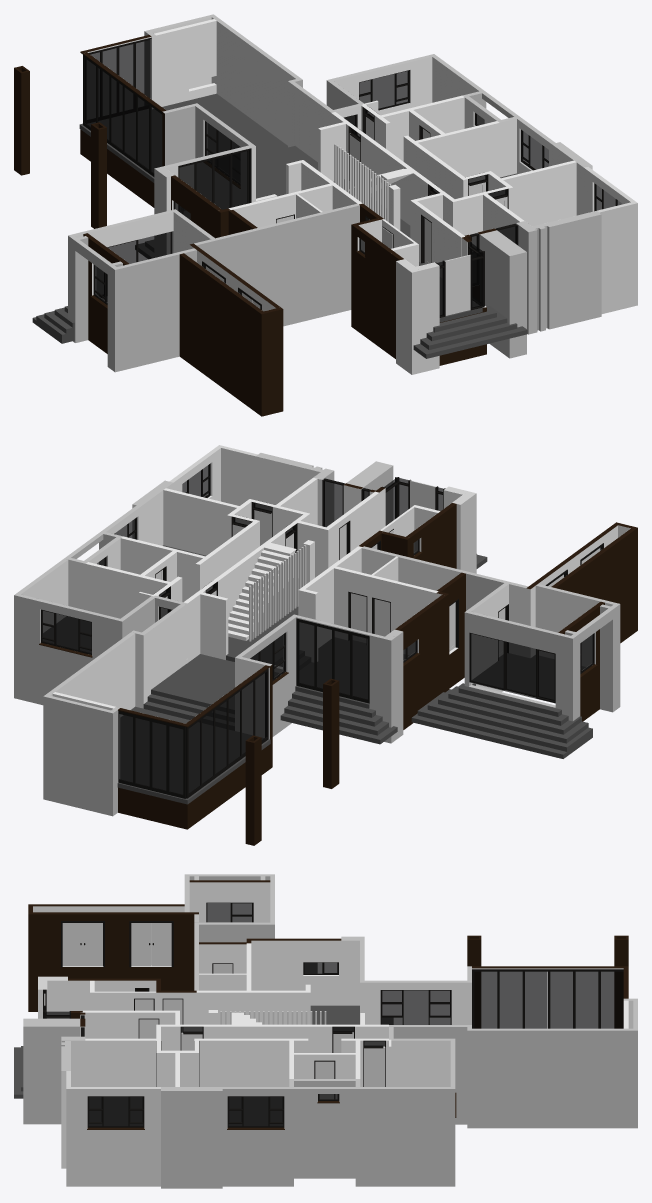
Rendered from grd floor.glb.
The picture shows the model from 3 angles, top to bottom: view 1: azimuth 30°, elevation 25°; view 2: azimuth 150°, elevation 25°; view 3: azimuth 270°, elevation 25°; orthographic projection. The views are drawn at different scales.
Visible parts, largest first — view 1: main Plaster_Int.001, main Plaster_1.001, main Plaster_2.001, main Glass.001, main Ceramic.002, main Plaster_3.001, main Frame.001, main Door _Panel.001, main Pine Wood.001; view 2: main Plaster_Int.001, main Plaster_1.001, main Ceramic.002, main Plaster_2.001, main Glass.001, main Frame.001, main Door _Panel.001, main Pine Wood.001, main Plaster_3.001; view 3: main Plaster_1.001, main Plaster_Int.001, main Glass.001, main Plaster_2.001, main Plaster_3.001, main Door _Panel.001, main Frame.001, main Ceramic.002, main Pine Wood.001.
Boxes of the visible parts, box(x1,y1,x2,y2) form: main Plaster_Int.001: box(75, 17, 630, 332); main Plaster_1.001: box(68, 14, 601, 372); main Plaster_2.001: box(14, 35, 535, 416); main Glass.001: box(84, 40, 622, 316); main Ceramic.002: box(32, 93, 527, 358); main Plaster_3.001: box(396, 167, 637, 374); main Frame.001: box(83, 37, 617, 317); main Door _Panel.001: box(206, 117, 507, 315); main Pine Wood.001: box(334, 144, 391, 221); main Plaster_Int.001: box(21, 448, 630, 739); main Plaster_1.001: box(14, 453, 620, 816); main Ceramic.002: box(43, 545, 592, 804); main Plaster_2.001: box(39, 483, 637, 845); main Glass.001: box(42, 464, 593, 794); main Frame.001: box(41, 463, 603, 798); main Door _Panel.001: box(156, 480, 600, 656); main Pine Wood.001: box(249, 545, 306, 641); main Plaster_3.001: box(169, 445, 476, 573); main Plaster_1.001: box(23, 874, 637, 1188); main Plaster_Int.001: box(33, 882, 633, 1168); main Glass.001: box(44, 903, 623, 1126); main Plaster_2.001: box(28, 880, 628, 1129); main Plaster_3.001: box(38, 976, 160, 1186); main Door _Panel.001: box(44, 923, 385, 1098); main Frame.001: box(43, 902, 623, 1127); main Ceramic.002: box(14, 963, 393, 1125); main Pine Wood.001: box(220, 1011, 326, 1024).
Size of the model in its own units: 22.2 by 4.54 by 26.3.
